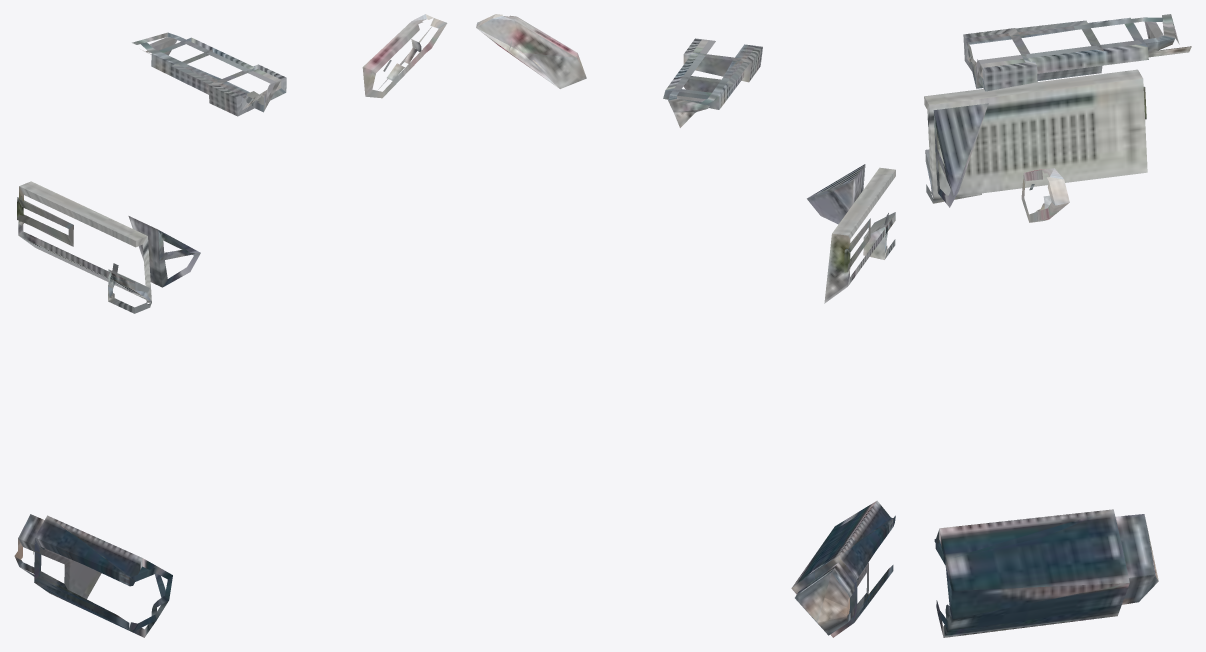
The model's file is tile_162.glb.
3 renders of one model, left to right at view 1: azimuth 30°, elevation 25°; view 2: azimuth 150°, elevation 25°; view 3: azimuth 270°, elevation 25°, orthographic. The views are drawn at different scales.
Size of the model in its own units: 236 by 291 by 105.
1 material, 1 textured.
